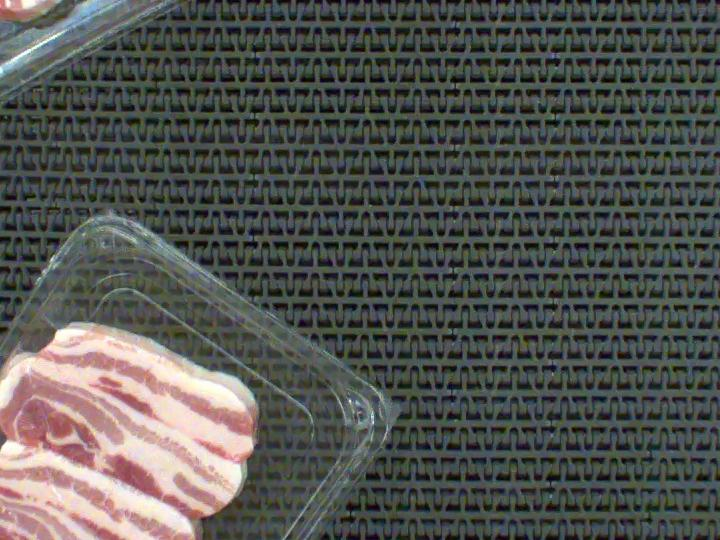packaging-error: (0, 288, 63, 425)
